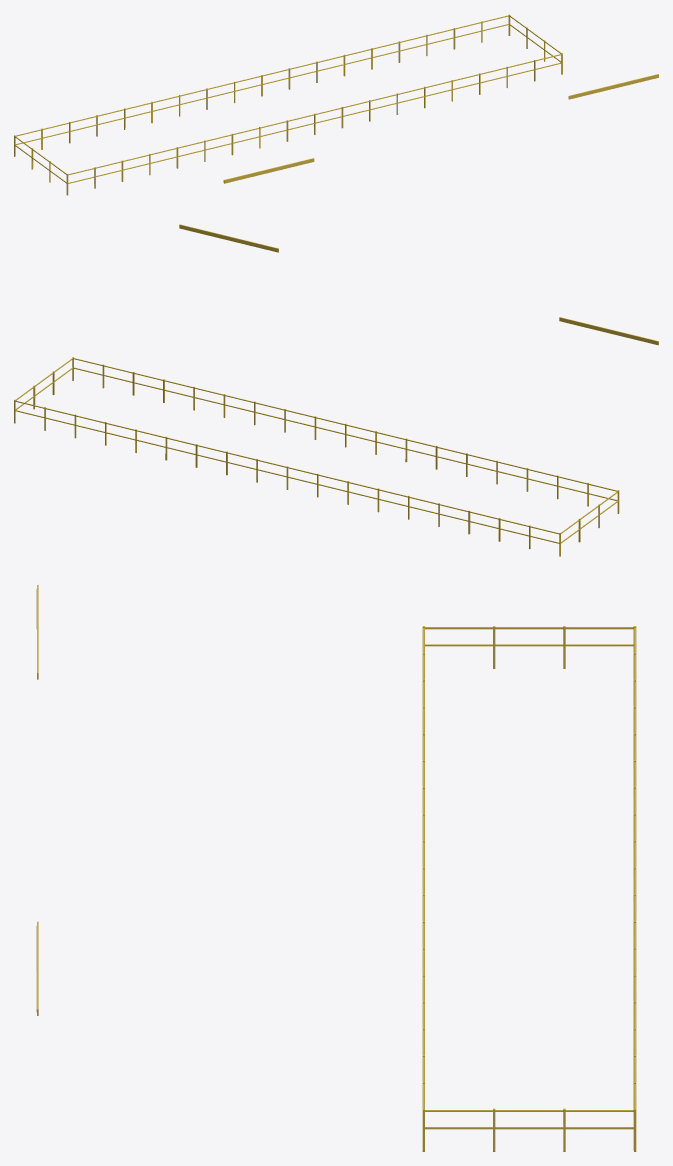
Rendered from cell_1_2_lod1.glb.
3 renders of one model, top to bottom at view 1: azimuth 30°, elevation 25°; view 2: azimuth 150°, elevation 25°; view 3: azimuth 270°, elevation 25°, orthographic. The views are drawn at different scales.
Parts seen in each view (by area): view 1: MERGED_env_SafetyYellow; view 2: MERGED_env_SafetyYellow; view 3: MERGED_env_SafetyYellow.
Part boxes in pixels (x1,y1,x2,y2): MERGED_env_SafetyYellow: (14, 14, 658, 195); MERGED_env_SafetyYellow: (14, 224, 658, 556); MERGED_env_SafetyYellow: (36, 585, 636, 1151).
Size of the model in its own units: 33.07 by 4.53 by 17.31.
